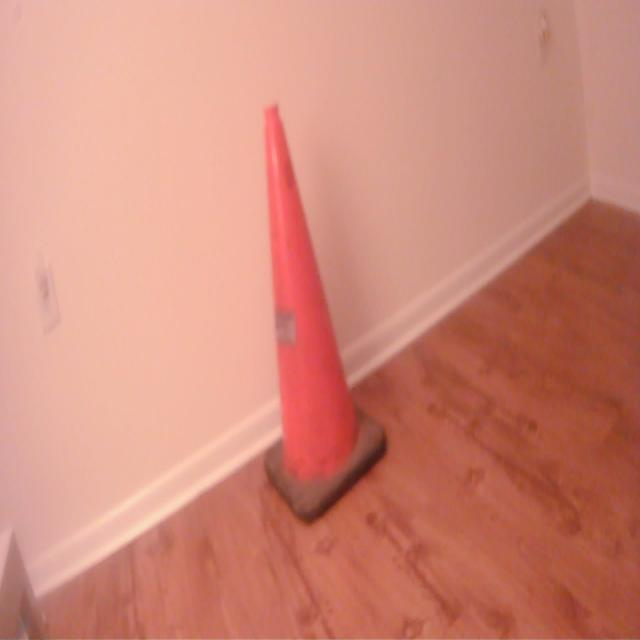traffic cone: (261, 97, 392, 534)
